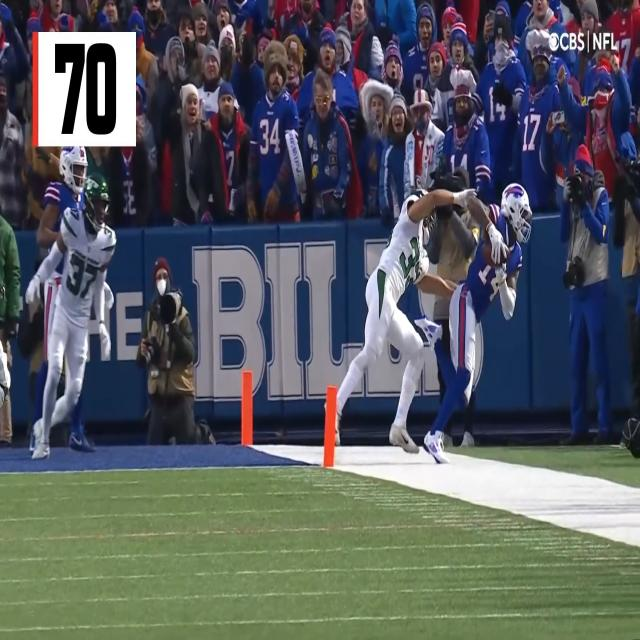football: (482, 241, 509, 270)
players: (423, 183, 534, 465), (333, 188, 446, 448), (24, 173, 118, 460), (28, 146, 98, 454)
